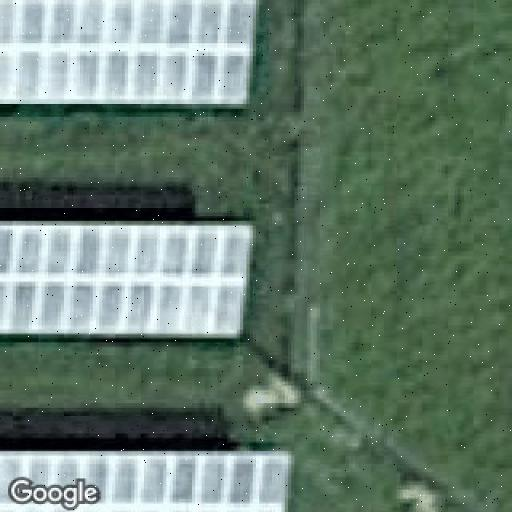solar-panel: (0, 221, 261, 341), (0, 0, 264, 117), (0, 449, 296, 512)
